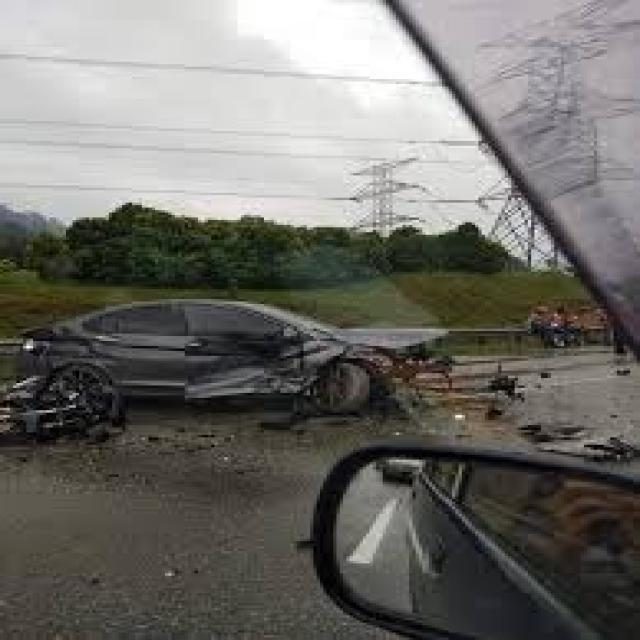accident: (3, 262, 553, 450)
